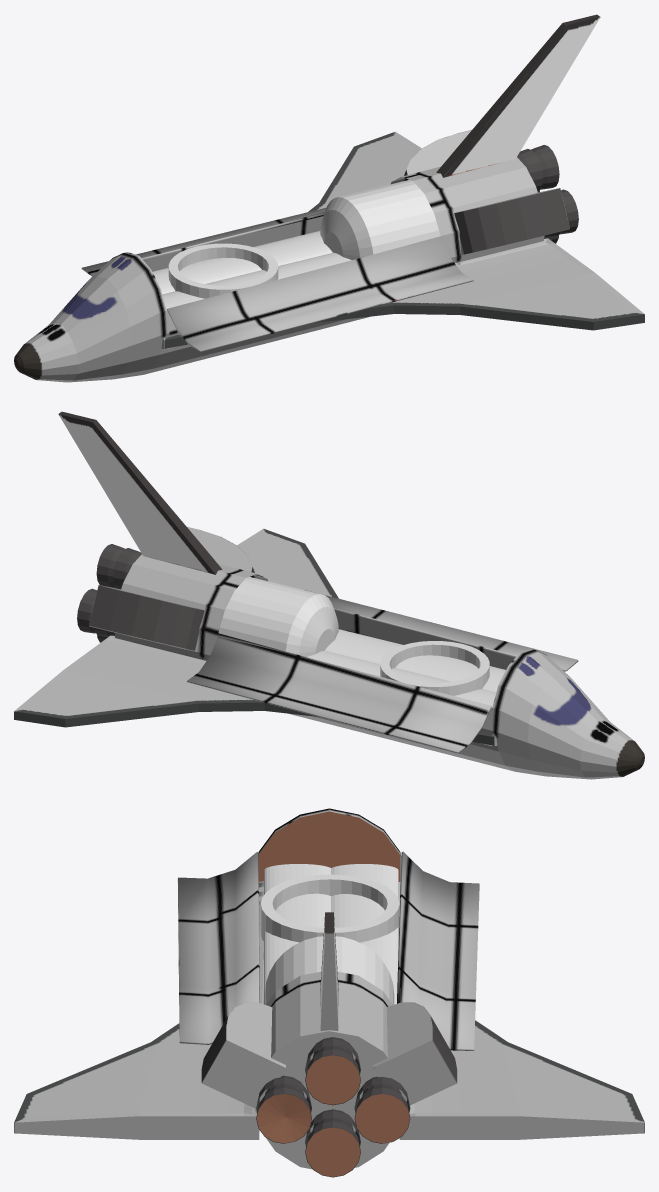
3 views of the same model, one above another, from view 1: azimuth 30°, elevation 25°; view 2: azimuth 150°, elevation 25°; view 3: azimuth 270°, elevation 25° (orthographic). The views are drawn at different scales.
Visible parts, largest first — view 1: feichuan.009, feichuan.002, feichuan.001; view 2: feichuan.009, feichuan.001, feichuan.002; view 3: feichuan.009, feichuan.002, feichuan.001.
Part boxes in pixels (bbox=[...]): feichuan.009: bbox=[14, 14, 644, 382]; feichuan.002: bbox=[167, 237, 473, 352]; feichuan.001: bbox=[81, 208, 326, 276]; feichuan.009: bbox=[14, 411, 644, 779]; feichuan.001: bbox=[187, 637, 491, 753]; feichuan.002: bbox=[304, 590, 578, 671]; feichuan.009: bbox=[14, 808, 644, 1177]; feichuan.002: bbox=[177, 852, 259, 1044]; feichuan.001: bbox=[397, 851, 479, 1050].
Size of the model in its own units: 4.71 by 1.86 by 3.49.
Materials: 4 (1 with a texture image).
